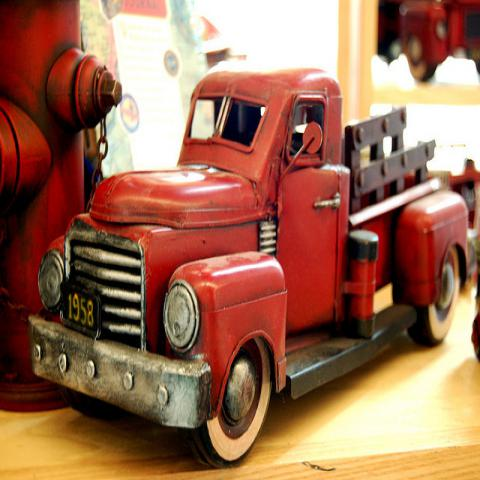truck: (30, 59, 479, 470)
